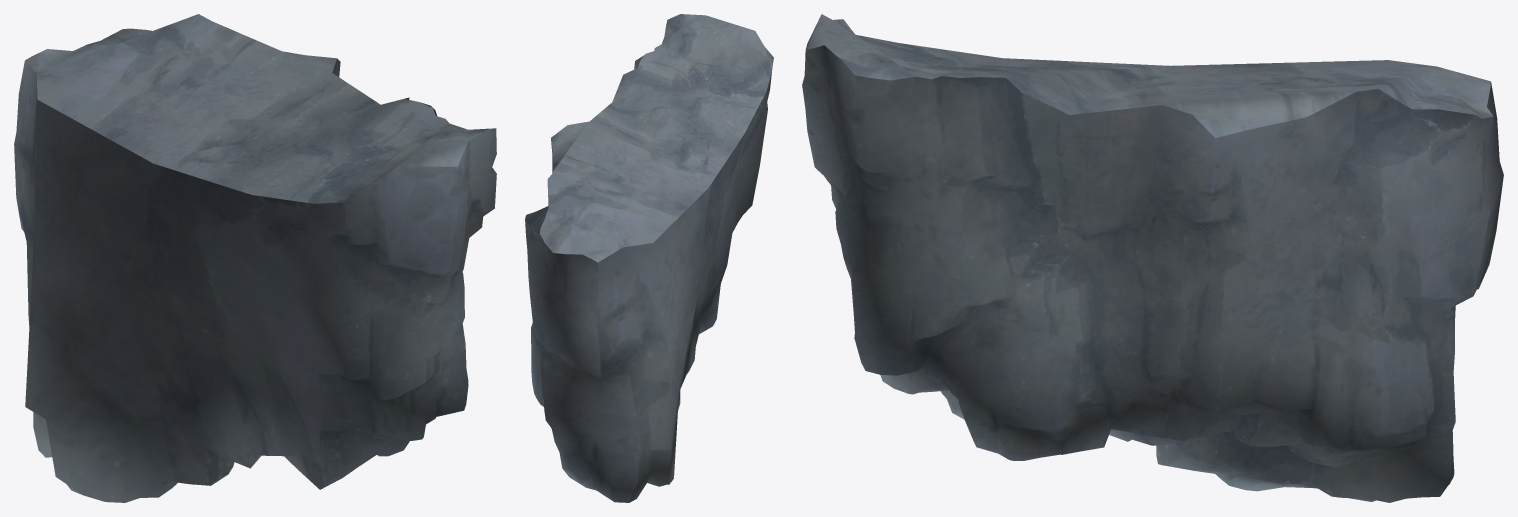
File: Area_Cyjy_Stone_DOWN_Cliff_L_06.fbx
3 views of the same model, side by side, from view 1: azimuth 30°, elevation 25°; view 2: azimuth 150°, elevation 25°; view 3: azimuth 270°, elevation 25° (orthographic). The views are drawn at different scales.
Parts seen in each view (by area): view 1: Area_Cyjy_Stone_DOWN_Cliff_L_06_Lod0; view 2: Area_Cyjy_Stone_DOWN_Cliff_L_06_Lod0; view 3: Area_Cyjy_Stone_DOWN_Cliff_L_06_Lod0.
Part boxes in pixels (x1,y1,x2,y2): Area_Cyjy_Stone_DOWN_Cliff_L_06_Lod0: (14,14,496,502); Area_Cyjy_Stone_DOWN_Cliff_L_06_Lod0: (525,14,773,502); Area_Cyjy_Stone_DOWN_Cliff_L_06_Lod0: (802,14,1503,502).
Bounding box in the file's own units: 29.17 × 54.1 × 65.54.
1 material, 1 textured.
